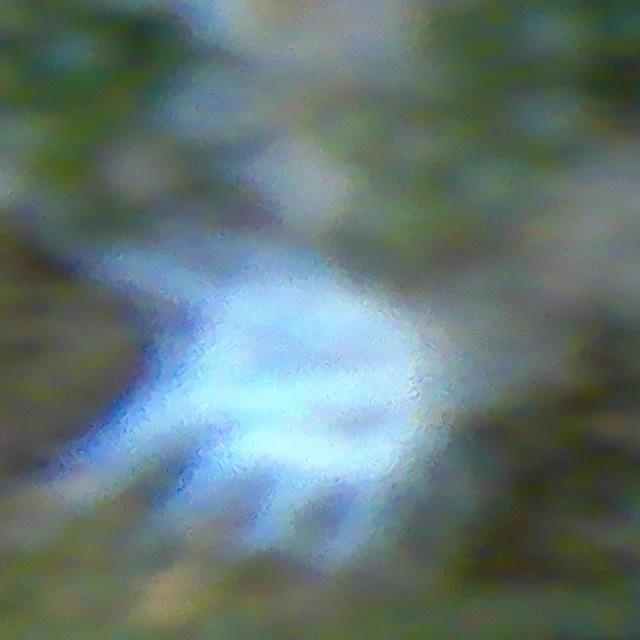SeaGrape: (516, 0, 605, 76), (509, 81, 593, 159)
